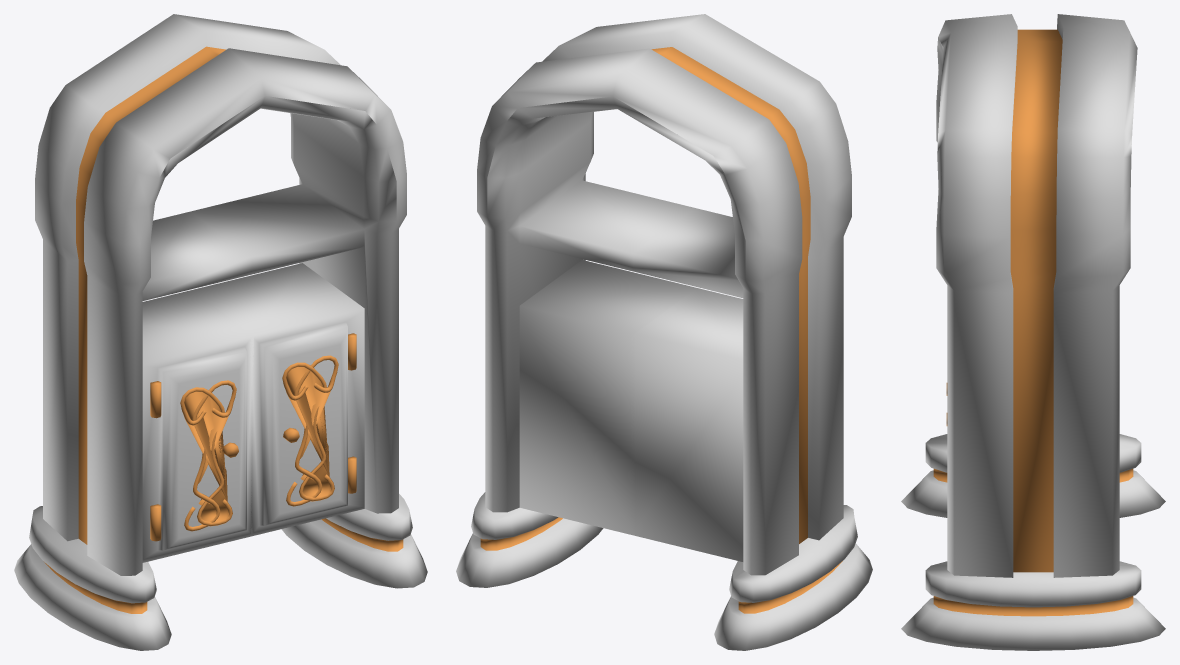
File: WoodenCabinet.fbx
3 renders of one model, left to right at view 1: azimuth 30°, elevation 25°; view 2: azimuth 150°, elevation 25°; view 3: azimuth 270°, elevation 25°, orthographic.
Visible parts, largest first — view 1: Cylinder.025; view 2: Cylinder.025; view 3: Cylinder.025.
Part boxes in pixels (x1=…): Cylinder.025: x1=14, y1=14, x2=427, y2=650; Cylinder.025: x1=456, y1=14, x2=872, y2=650; Cylinder.025: x1=901, y1=14, x2=1165, y2=650.
Size of the model in its own units: 179 by 262 by 117.
